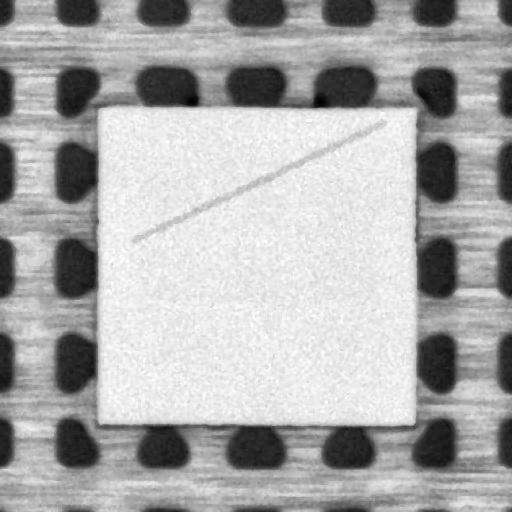DIE_CRACK: (130, 122, 382, 241)
